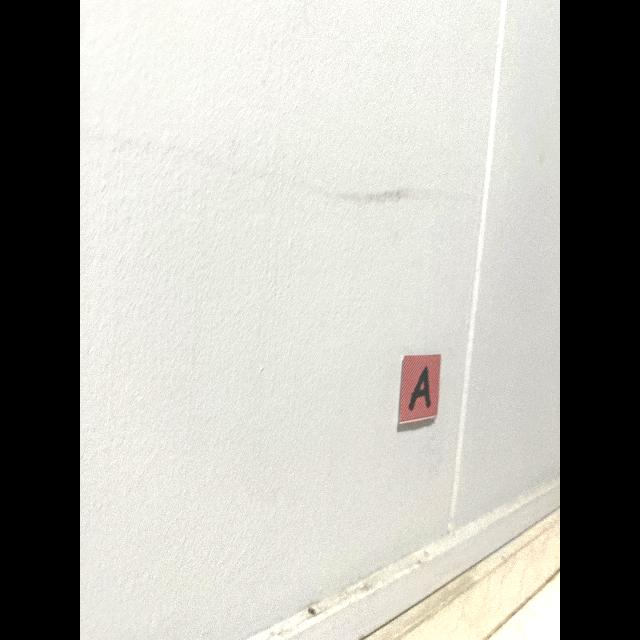A: (409, 367, 431, 410)
